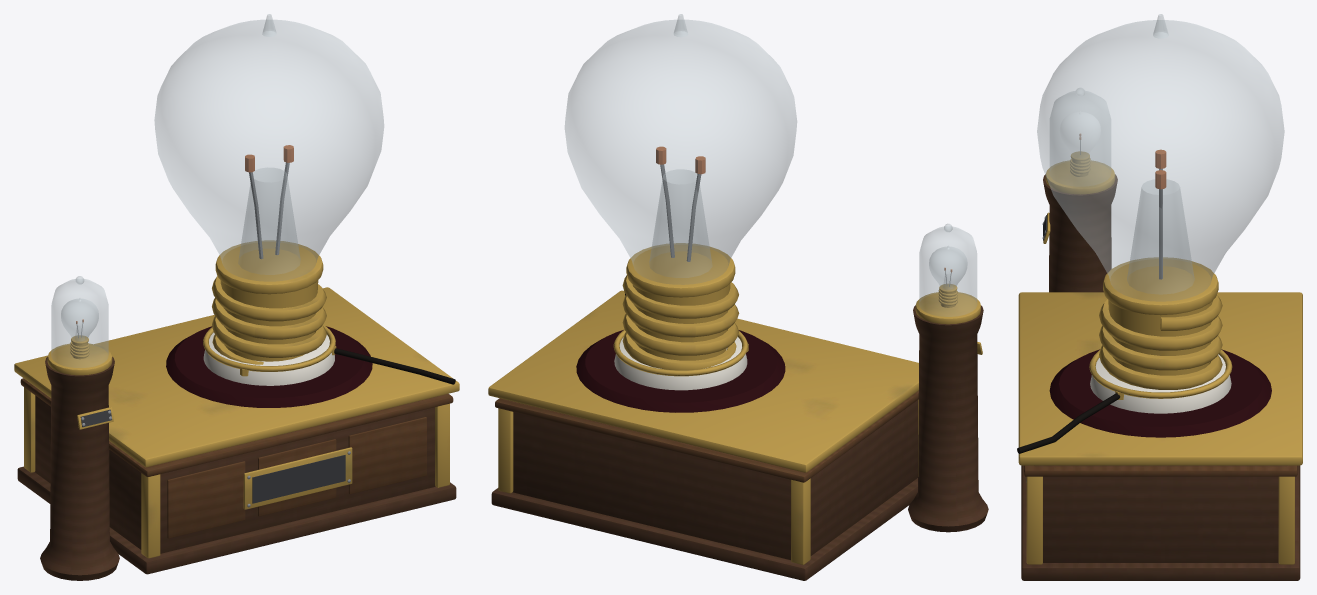
Rendered from edison.glb.
3 views of the same model, side by side, from view 1: azimuth 30°, elevation 25°; view 2: azimuth 150°, elevation 25°; view 3: azimuth 270°, elevation 25° (orthographic). The views are drawn at different scales.
Parts seen in each view (by area): view 1: edison_static, big_static, plaque_static, small_static, plaqueSmall_static; view 2: edison_static, big_static, small_static; view 3: edison_static, big_static, small_static.
Part boxes in pixels (x1,y1,x2,y2): edison_static: (14,276,459,580); big_static: (154,14,383,364); plaque_static: (243,447,352,509); small_static: (61,298,98,359); plaqueSmall_static: (77,407,113,429); edison_static: (488,224,988,580); big_static: (565,14,796,370); small_static: (929,246,967,307); edison_static: (1017,88,1302,580); big_static: (1037,14,1284,389); small_static: (1070,133,1090,176).
Bounding box in the file's own units: 1.79 × 2.07 × 1.07.
Materials: 11 (4 with a texture image).
